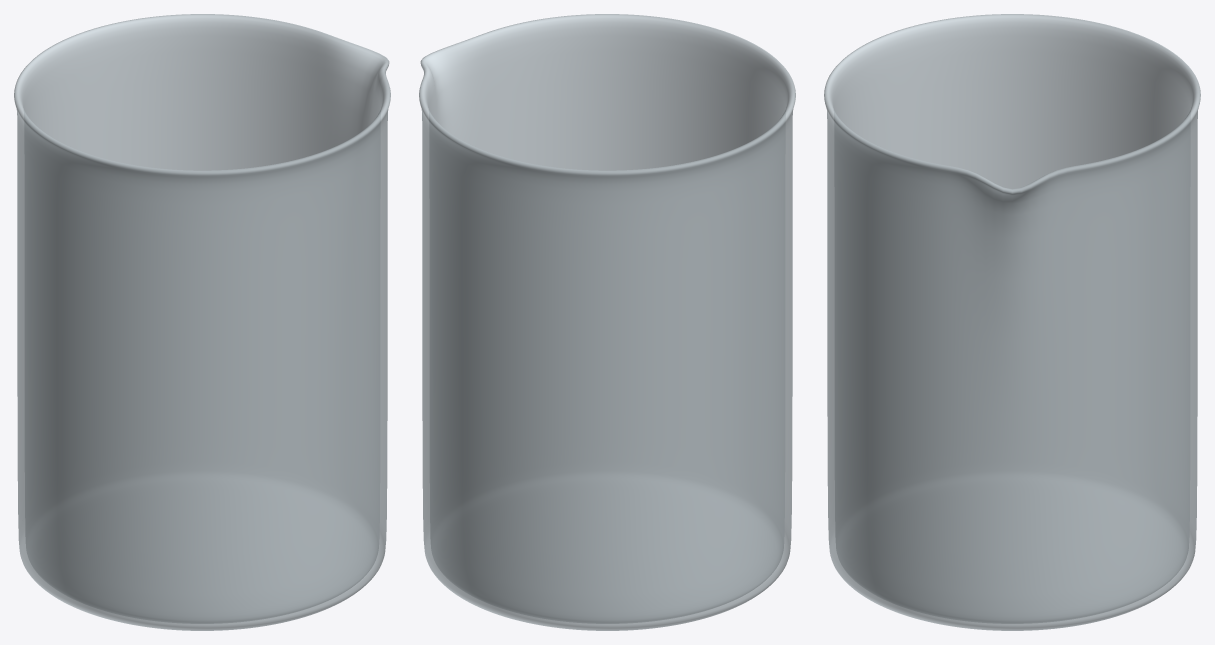
Rendered from Beaker.glb.
The picture shows the model from 3 angles, left to right: view 1: azimuth 30°, elevation 25°; view 2: azimuth 150°, elevation 25°; view 3: azimuth 270°, elevation 25°; orthographic projection.
Parts seen in each view (by area): view 1: 100 mL Beaker; view 2: 100 mL Beaker; view 3: 100 mL Beaker.
Part boxes in pixels (x1,y1,x2,y2): 100 mL Beaker: (14,14,390,630); 100 mL Beaker: (419,14,795,630); 100 mL Beaker: (824,14,1200,630).
Size of the model in its own units: 0.0549 by 0.0705 by 0.0516.
Materials: 1 (1 with a texture image).
